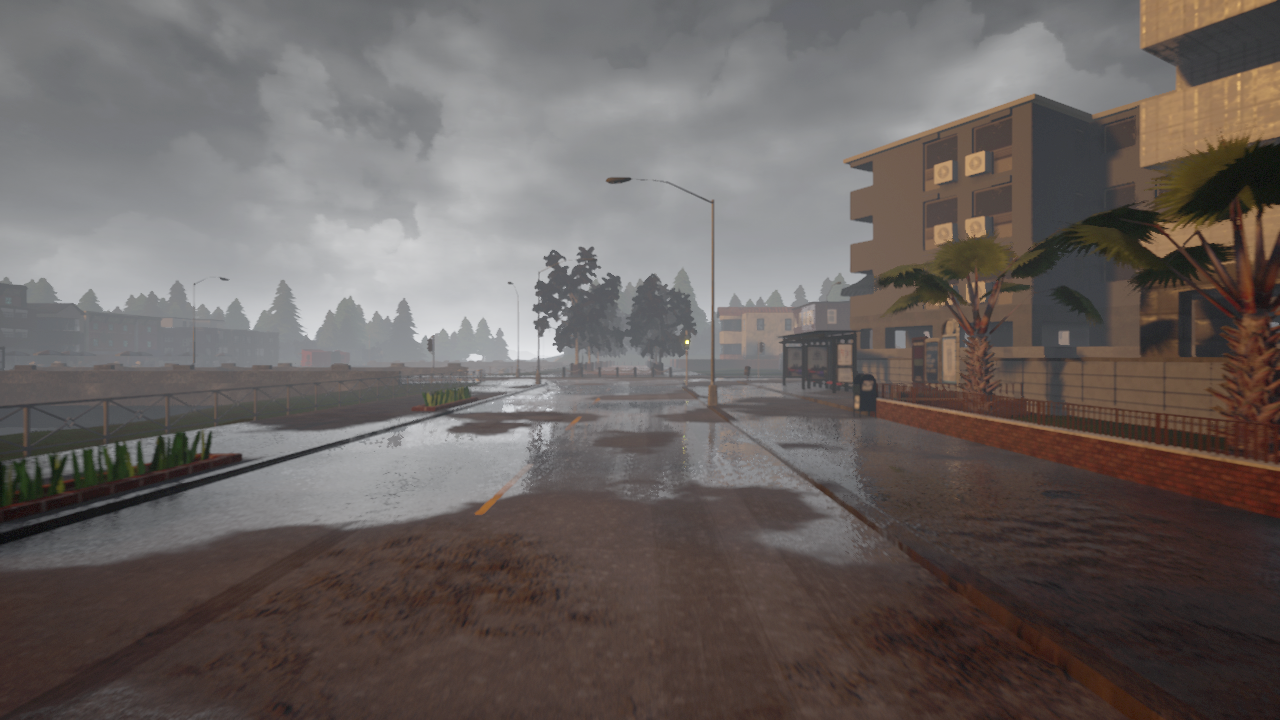yellow: (683, 334, 689, 350)
